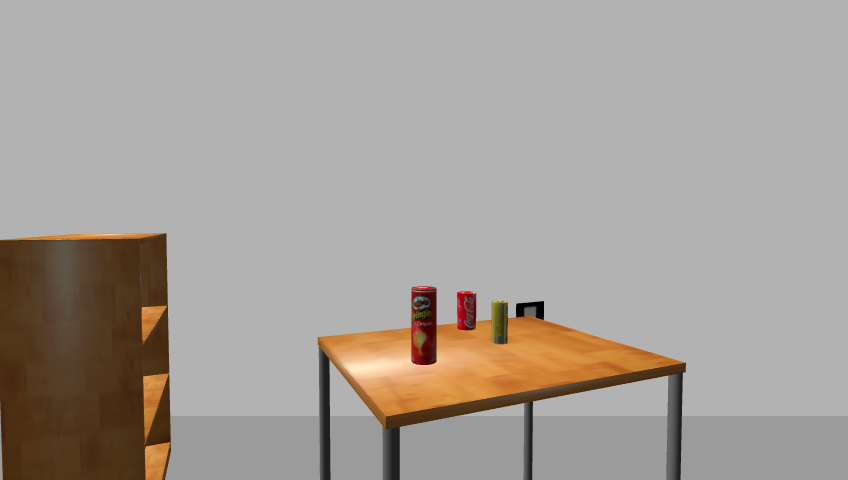aruco marker: (512, 300, 547, 323)
biscuits pack: (492, 301, 508, 346)
bookshelf: (0, 233, 177, 479)
coke can: (455, 291, 477, 331)
dinner table: (310, 317, 694, 479)
pringles can: (408, 286, 439, 367)
